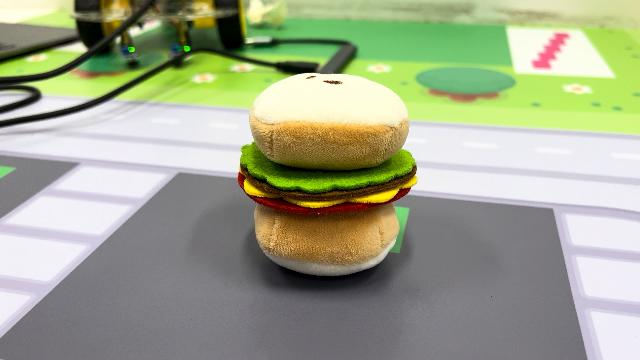sandwich: (235, 70, 420, 278)
